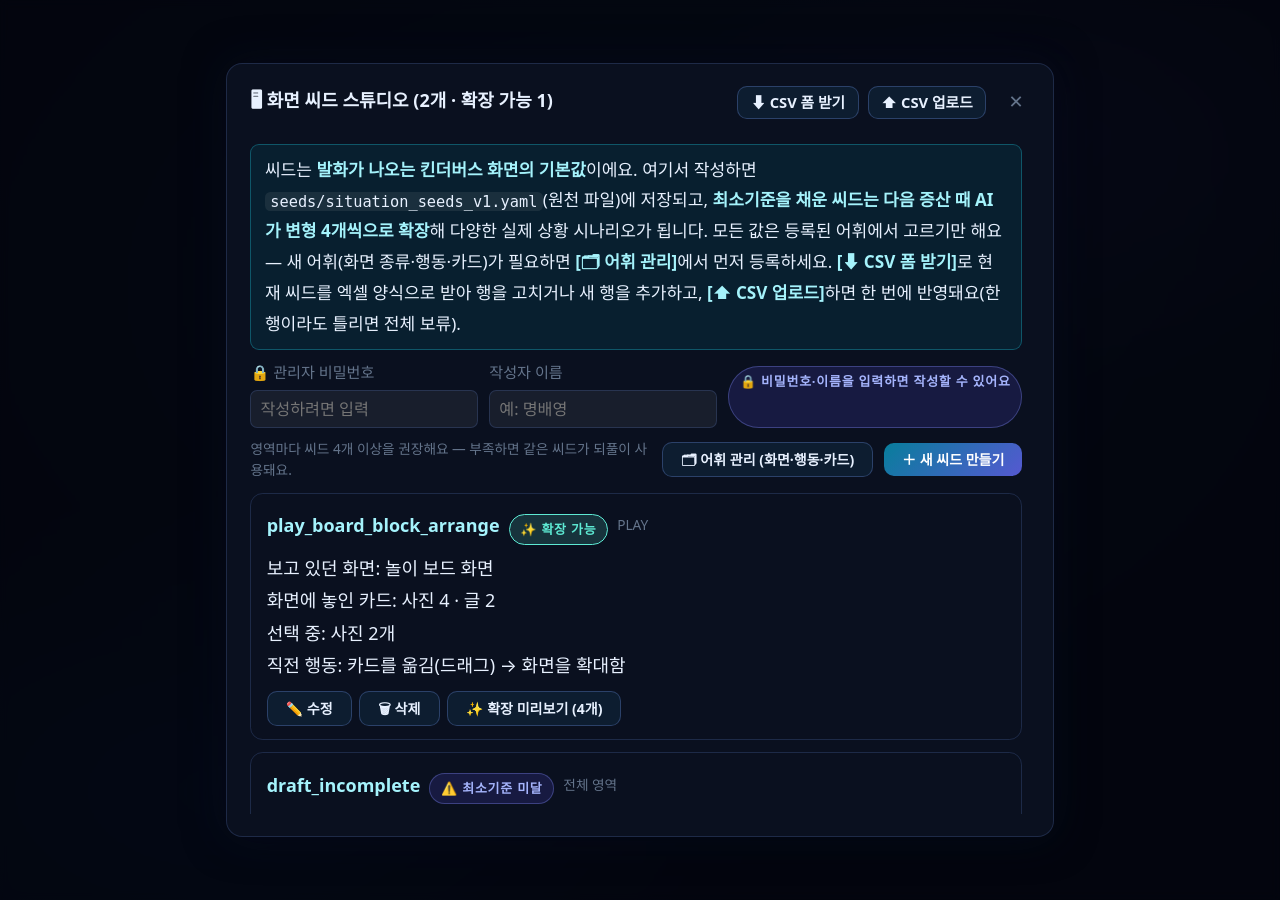
Test: SituationSeedPanel › PIN 게이트: 비밀번호·이름 없이 [＋ 새 씨드]를 누르면 입력창이 하이라이트된다
Expected: the text "play_board_block_arrange" is shown, [267, 509, 500, 542]
Click the button "＋ 새 씨드 만들기".
click(953, 460)  # box [884, 443, 1022, 476]
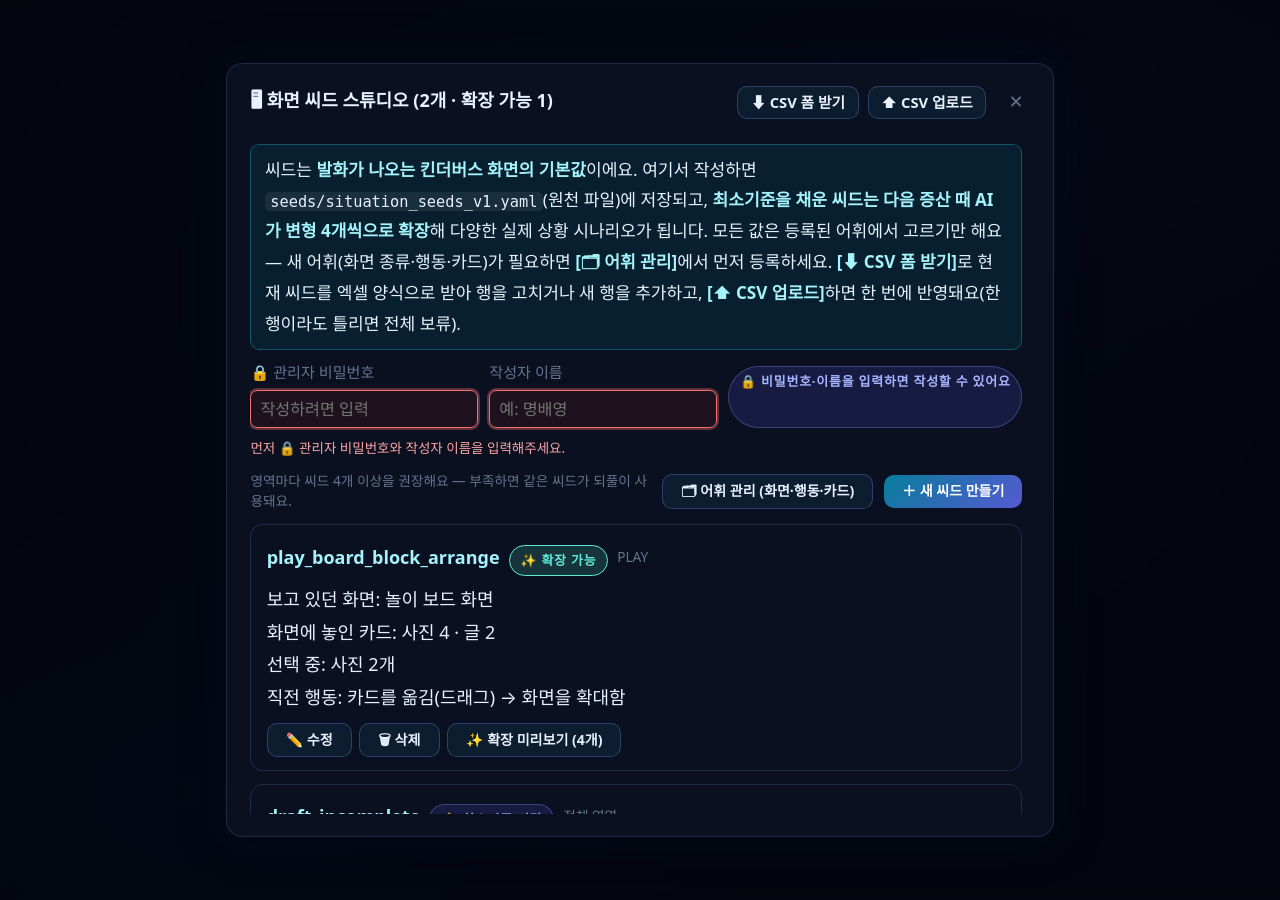
Expected: the number of password fields with class "input-missing" is 2, [250, 390, 478, 428]; [489, 390, 717, 428]
Now the text "먼저 🔒 관리자 비밀번호와 작성자 이름을 입력해주세요." is shown, box [250, 439, 565, 457]
